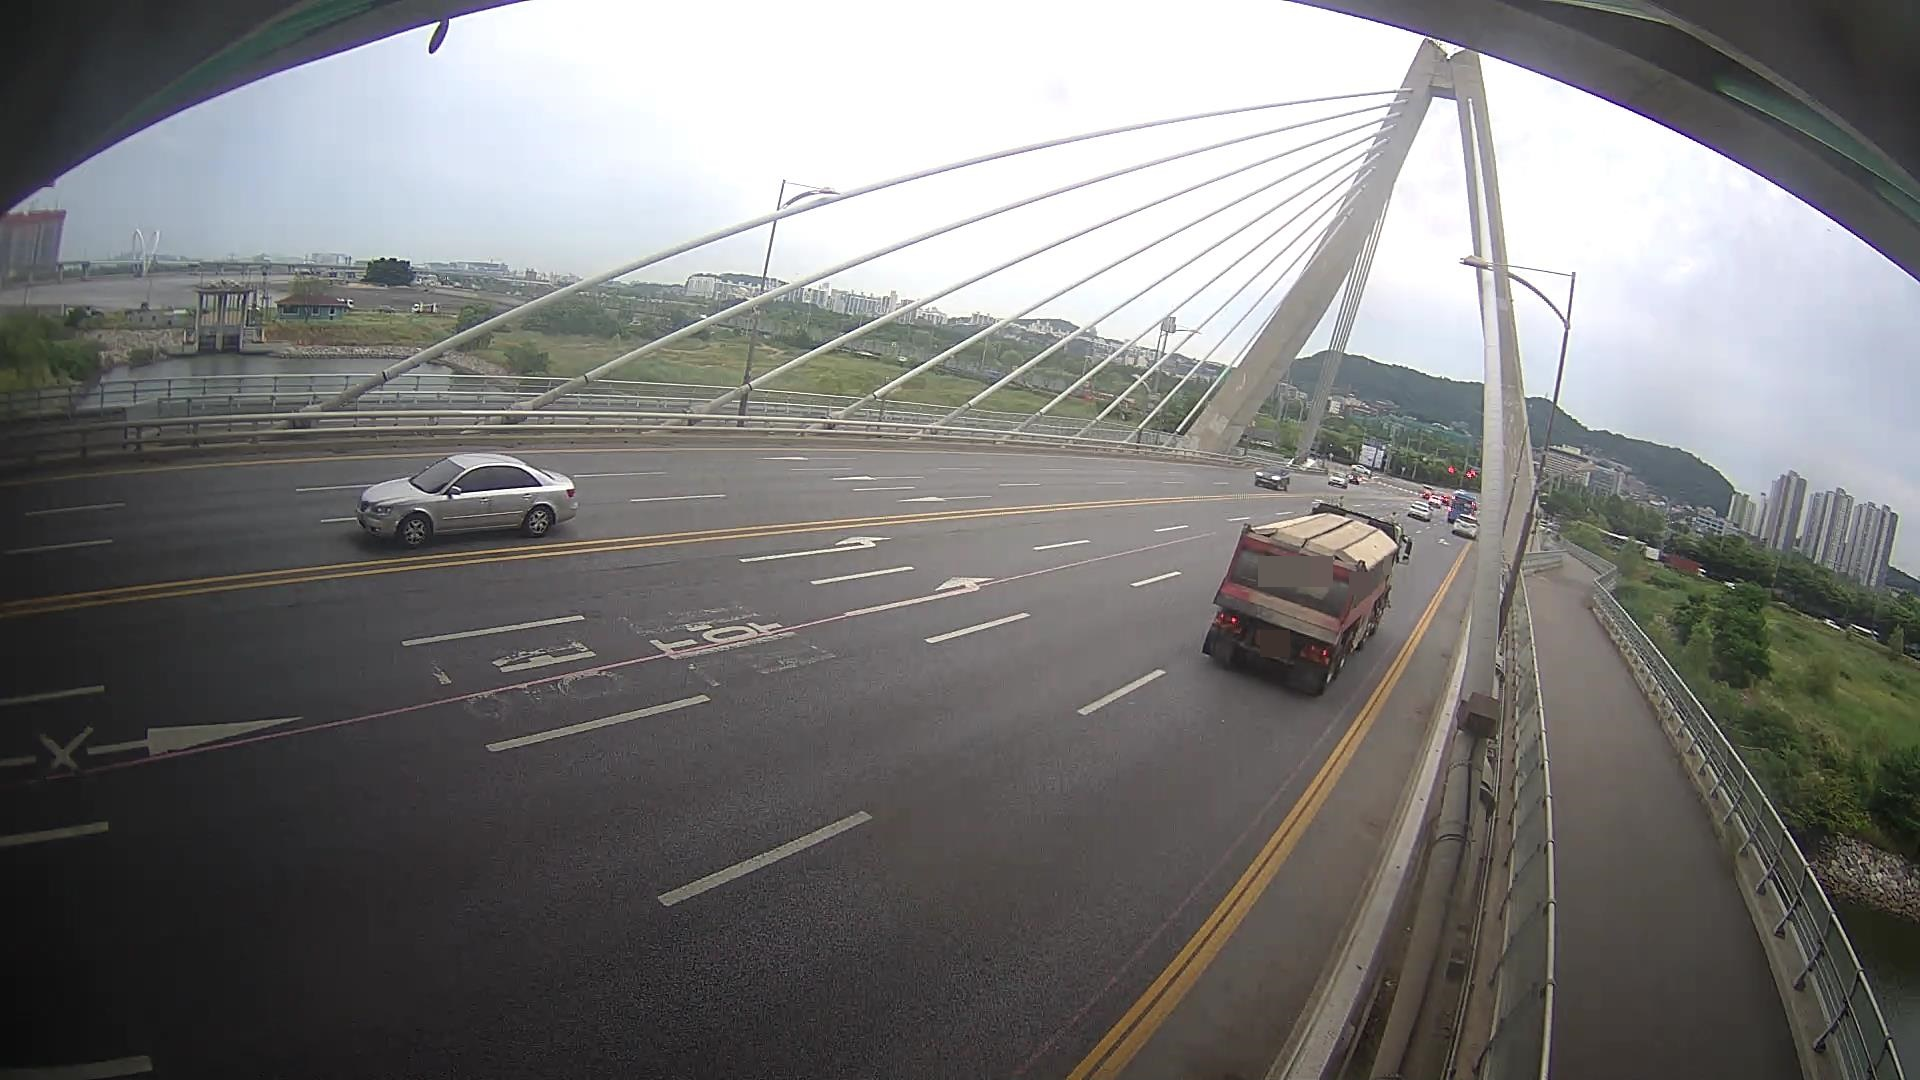정상차량: (1203, 496, 1412, 695)
